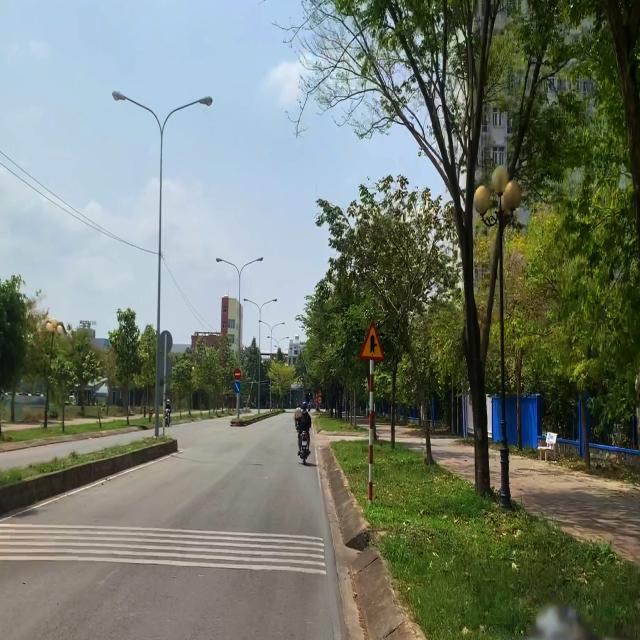Cam nguoc chieu: (234, 368, 241, 380)
Giao voi duong khong uu tien: (358, 321, 386, 362), (318, 389, 322, 396)
Hieu lenh: (234, 382, 241, 394)
Toc do toi da: (318, 396, 322, 404)
